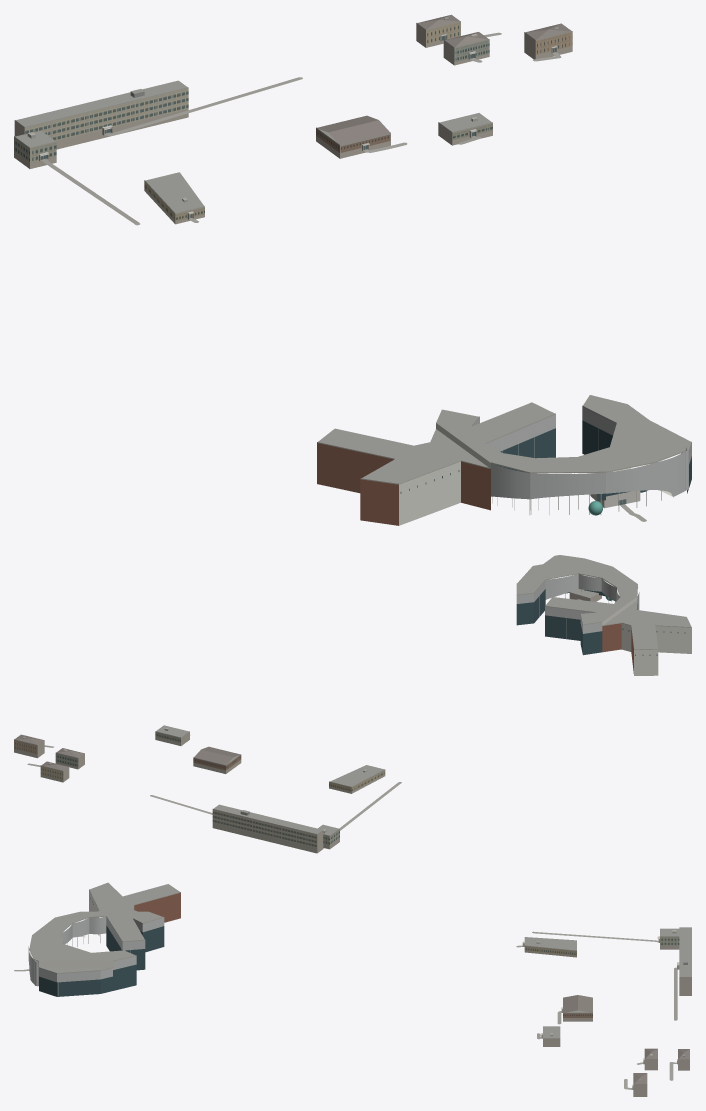
3 renders of one model, top to bottom at view 1: azimuth 30°, elevation 25°; view 2: azimuth 150°, elevation 25°; view 3: azimuth 270°, elevation 25°, orthographic. The views are drawn at different scales.
Visible parts, largest first — view 1: ctx-roof, ctx-science-silver, ctx-science-end, ctx-entrance-surround, ctx-variant-0, ctx-science-white, ctx-parapet, ctx-house-roof, ctx-science-glass, ctx-entrance-paving, ctx-entrance-frame; view 2: ctx-roof, ctx-science-white, ctx-science-silver, ctx-entrance-surround, ctx-science-glass, ctx-variant-0, ctx-parapet, ctx-house-roof, ctx-science-end; view 3: ctx-roof, ctx-science-glass, ctx-science-silver, ctx-entrance-surround, ctx-house-roof, ctx-science-end, ctx-entrance-paving, ctx-science-white, ctx-parapet.
Boxes of the visible parts, <box> form: ctx-roof: <box>15,80,691,483</box>; ctx-science-silver: <box>472,406,691,499</box>; ctx-science-end: <box>317,443,490,525</box>; ctx-entrance-surround: <box>14,23,604,507</box>; ctx-variant-0: <box>24,88,188,140</box>; ctx-science-white: <box>399,423,686,525</box>; ctx-parapet: <box>14,21,691,484</box>; ctx-house-roof: <box>317,14,571,144</box>; ctx-science-glass: <box>400,420,691,500</box>; ctx-entrance-paving: <box>41,32,646,521</box>; ctx-entrance-frame: <box>39,34,691,508</box>; ctx-roof: <box>156,555,691,835</box>; ctx-science-white: <box>585,575,691,675</box>; ctx-science-silver: <box>516,574,639,633</box>; ctx-entrance-surround: <box>14,592,601,853</box>; ctx-science-glass: <box>516,589,685,655</box>; ctx-variant-0: <box>212,809,317,847</box>; ctx-parapet: <box>14,573,691,850</box>; ctx-house-roof: <box>14,734,240,770</box>; ctx-science-end: <box>602,604,637,673</box>; ctx-roof: <box>29,882,691,1038</box>; ctx-science-glass: <box>39,898,164,996</box>; ctx-science-silver: <box>28,916,164,986</box>; ctx-entrance-surround: <box>522,938,691,1096</box>; ctx-house-roof: <box>563,995,689,1083</box>; ctx-science-end: <box>134,892,180,922</box>; ctx-entrance-paving: <box>14,931,677,1089</box>; ctx-science-white: <box>30,890,134,967</box>; ctx-parapet: <box>29,890,691,1095</box>.
Size of the model in its own units: 330 by 24.43 by 490.
Materials: 28 (8 with a texture image).
